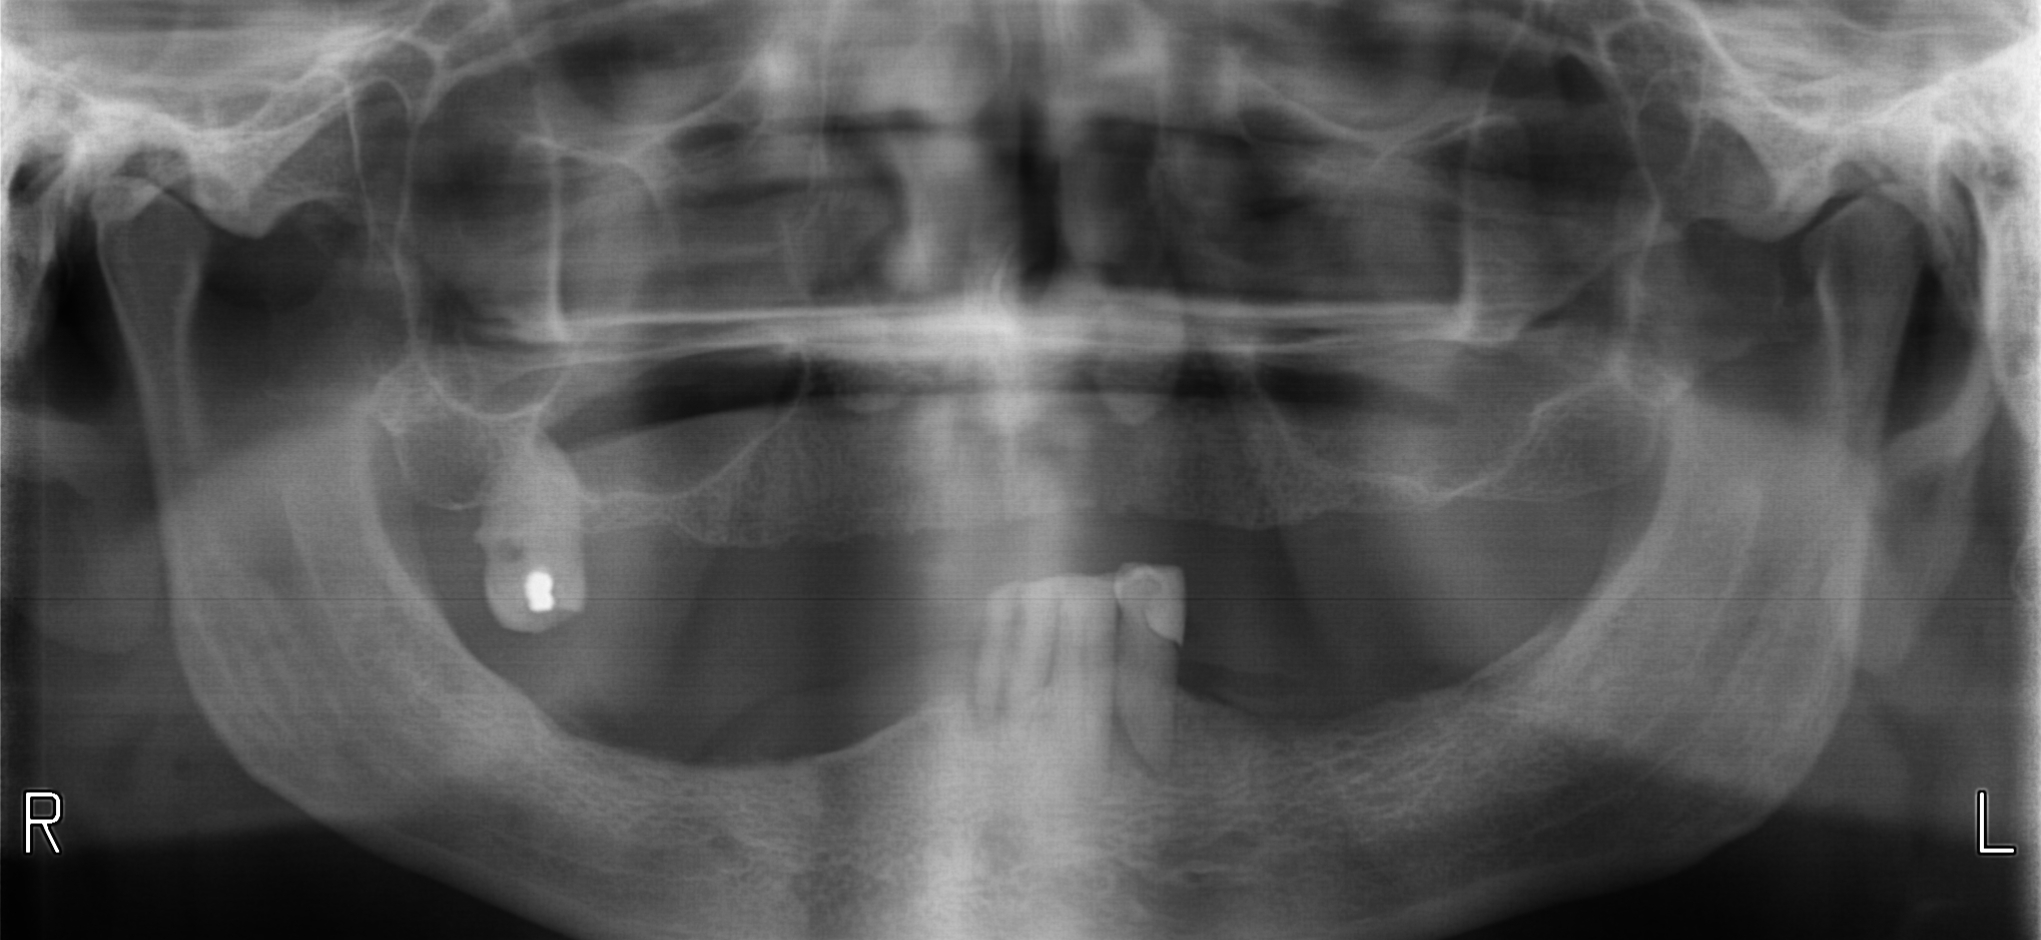cavity: (499, 547, 519, 562), (1168, 638, 1181, 647)
